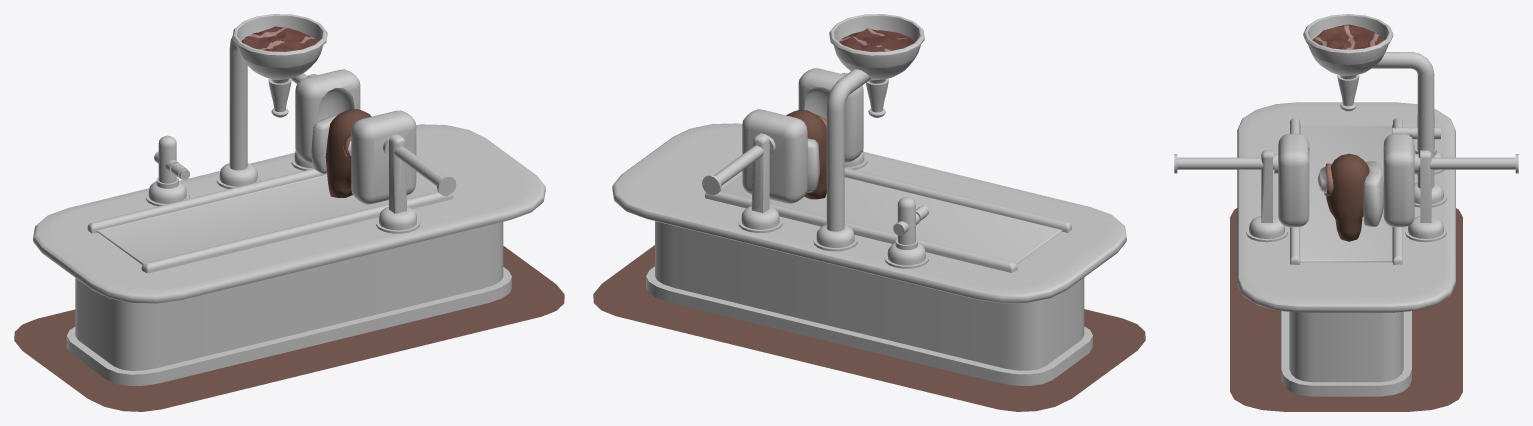
The model's file is Among_Us_Cake.fbx.
3 renders of one model, left to right at view 1: azimuth 30°, elevation 25°; view 2: azimuth 150°, elevation 25°; view 3: azimuth 270°, elevation 25°, orthographic. The views are drawn at different scales.
Parts seen in each view (by area): view 1: MachineDeskShort_2, MachineArea_Short_Red, Conveyor_3, Machine_Press_Among_1.002, Cylinder.002, Cylinder, AmongUs, Machine_Press_Among_2, ChocolateFlow_Kisses.001, Cylinder.004, AmongUs_Back, Machine_Press_Among_1.001; view 2: MachineDeskShort_2, MachineArea_Short_Red, Conveyor_3, Machine_Press_Among_1.002, Cylinder, Cylinder.002, Machine_Press_Among_1, AmongUs, ChocolateFlow_Kisses.001, Cylinder.004, Machine_Press_Among_1.001, AmongUs_Back; view 3: MachineDeskShort_2, MachineArea_Short_Red, Conveyor_3, Machine_Press_Among_1.002, Cylinder, Cylinder.002, AmongUs, Machine_Press_Among_1, Machine_Press_Among_2, ChocolateFlow_Kisses.001, AmongUs_Back.
Part boxes in pixels (x1,y1,x2,y2): MachineDeskShort_2: [33, 124, 545, 385]; MachineArea_Short_Red: [14, 246, 564, 411]; Conveyor_3: [87, 168, 453, 273]; Machine_Press_Among_1.002: [216, 14, 327, 188]; Cylinder.002: [351, 110, 456, 204]; Cylinder: [291, 69, 360, 163]; AmongUs: [325, 109, 371, 197]; Machine_Press_Among_2: [376, 134, 420, 233]; ChocolateFlow_Kisses.001: [241, 26, 317, 51]; Cylinder.004: [154, 135, 179, 188]; AmongUs_Back: [311, 115, 337, 173]; Machine_Press_Among_1.001: [145, 181, 189, 206]; MachineDeskShort_2: [612, 123, 1126, 385]; MachineArea_Short_Red: [593, 245, 1145, 411]; Conveyor_3: [705, 167, 1071, 272]; Machine_Press_Among_1.002: [813, 14, 924, 251]; Cylinder: [702, 109, 807, 203]; Cylinder.002: [798, 68, 863, 162]; Machine_Press_Among_1: [738, 133, 782, 232]; AmongUs: [786, 110, 826, 199]; ChocolateFlow_Kisses.001: [839, 28, 915, 51]; Cylinder.004: [893, 197, 919, 250]; Machine_Press_Among_1.001: [884, 242, 928, 268]; AmongUs_Back: [807, 138, 819, 192]; MachineDeskShort_2: [1237, 102, 1455, 396]; MachineArea_Short_Red: [1230, 208, 1462, 411]; Conveyor_3: [1290, 118, 1402, 264]; Machine_Press_Among_1.002: [1303, 14, 1446, 207]; Cylinder: [1383, 133, 1518, 227]; Cylinder.002: [1174, 133, 1309, 227]; AmongUs: [1317, 153, 1369, 241]; Machine_Press_Among_1: [1405, 150, 1446, 242]; Machine_Press_Among_2: [1246, 150, 1287, 242]; ChocolateFlow_Kisses.001: [1312, 24, 1383, 62]; AmongUs_Back: [1363, 161, 1383, 226].
Bounding box in the file's own units: 352 × 205 × 238.
